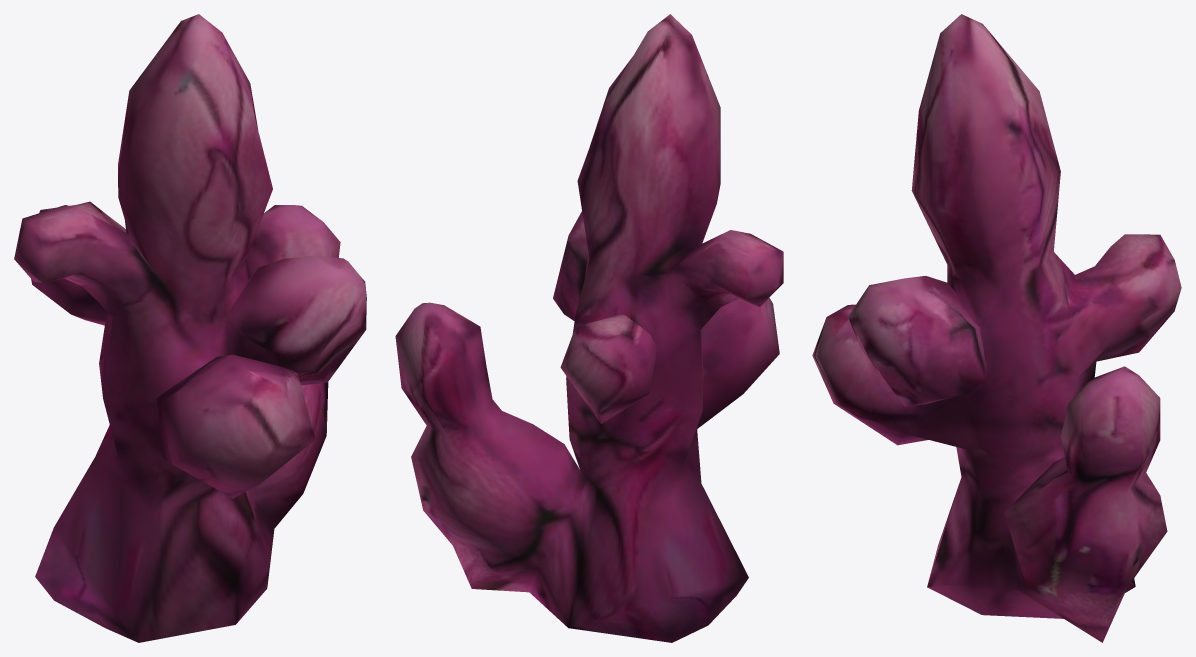
File: Plant03.glb
3 views of the same model, side by side, from view 1: azimuth 30°, elevation 25°; view 2: azimuth 150°, elevation 25°; view 3: azimuth 270°, elevation 25° (orthographic). The views are drawn at different scales.
Parts seen in each view (by area): view 1: Plants.003; view 2: Plants.003; view 3: Plants.003.
Boxes of the visible parts, x1,y1,x2,y2 form: Plants.003: (14, 14, 366, 642); Plants.003: (395, 14, 783, 642); Plants.003: (812, 14, 1181, 642).
Bounding box in the file's own units: 0.6758 × 1.08 × 0.6389.
1 material, 1 textured.
